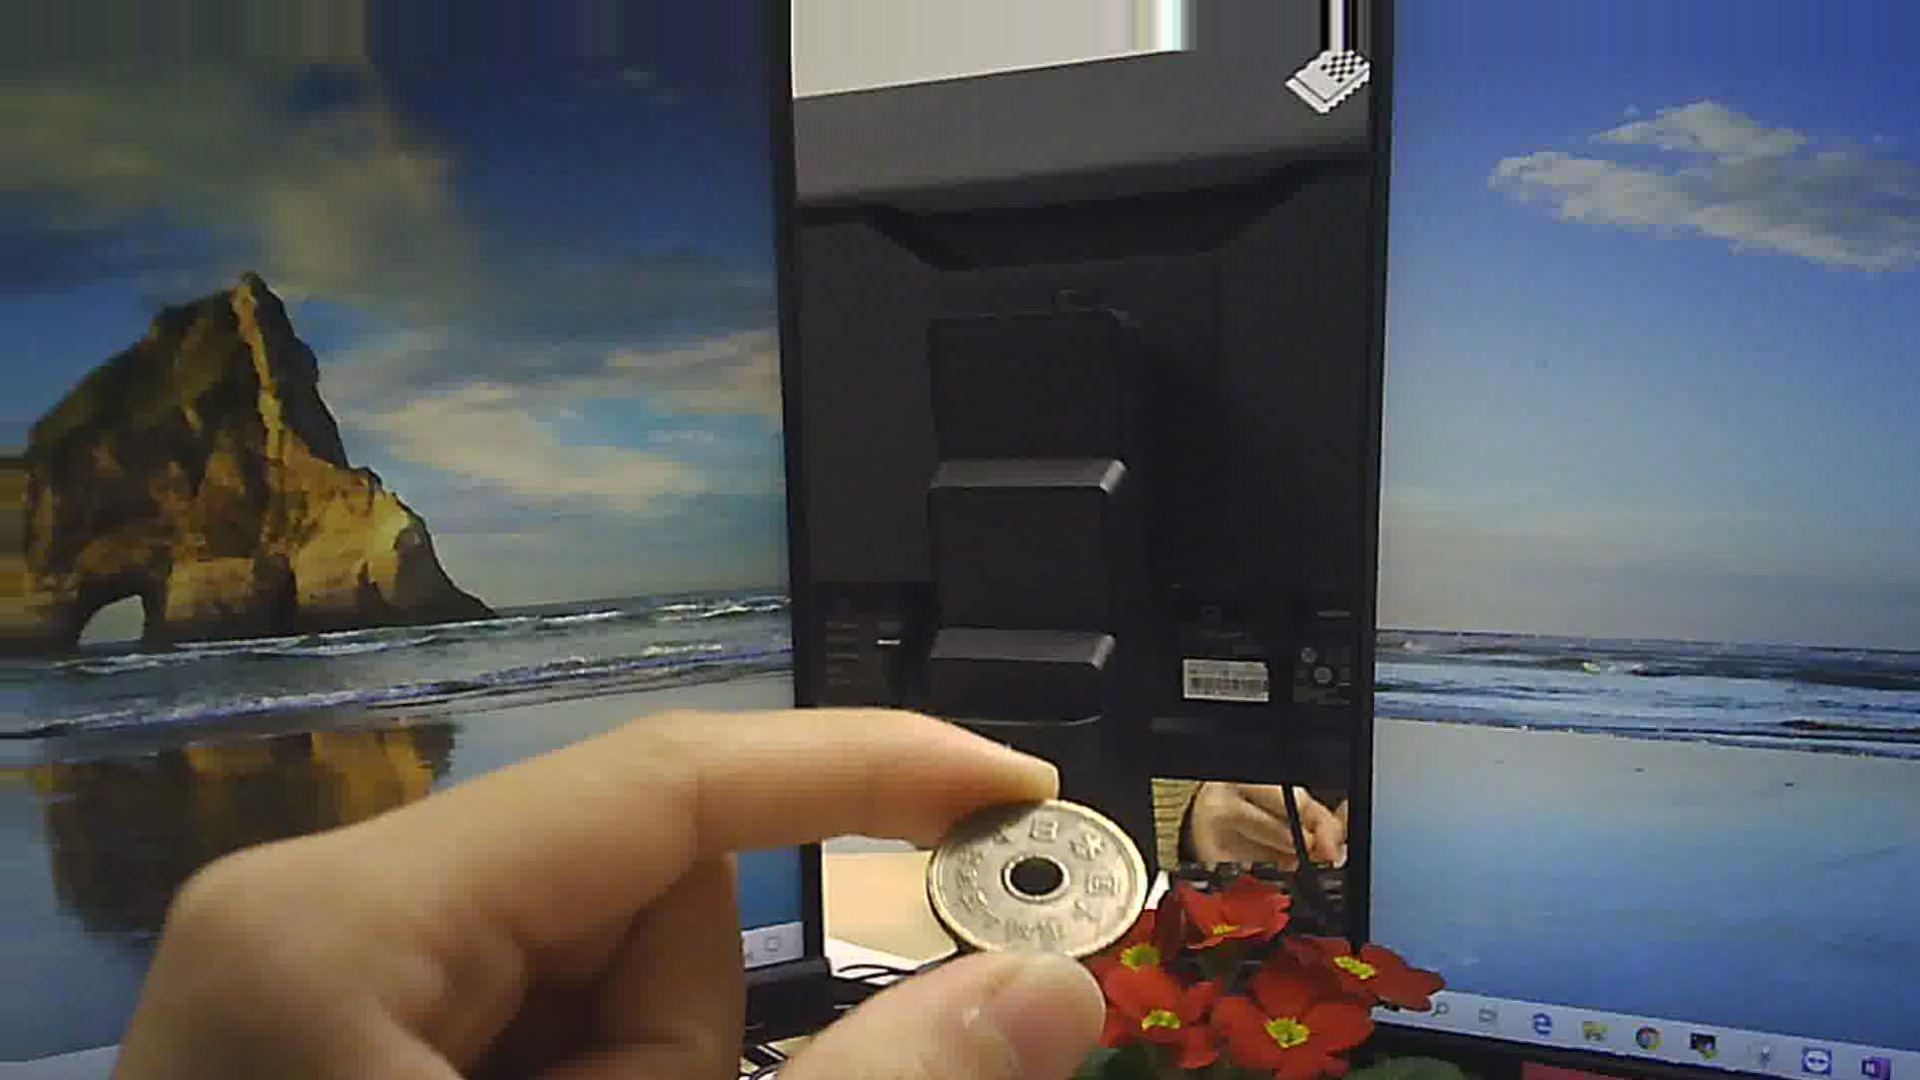5 Yen: (919, 787, 1131, 959)
